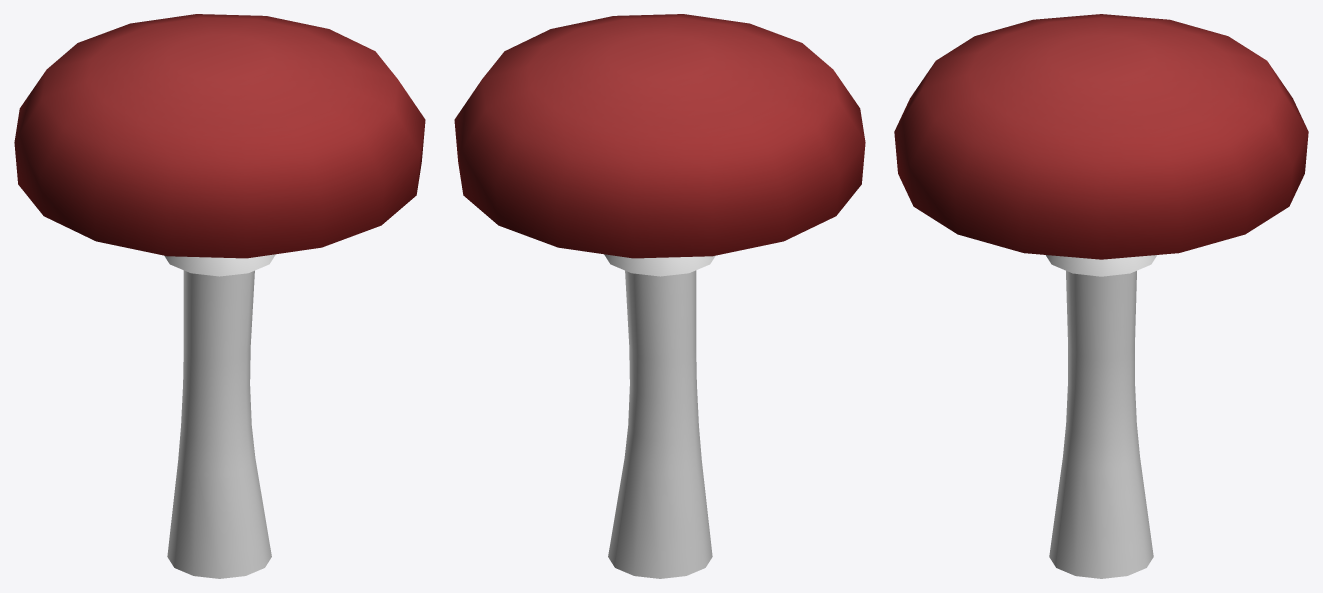
File: Mushroom_02.fbx
3 renders of one model, left to right at view 1: azimuth 30°, elevation 25°; view 2: azimuth 150°, elevation 25°; view 3: azimuth 270°, elevation 25°, orthographic.
Visible parts, largest first — view 1: Mushroom_02_LOD0; view 2: Mushroom_02_LOD0; view 3: Mushroom_02_LOD0.
Part boxes in pixels (bbox=[...]): Mushroom_02_LOD0: bbox=[14, 14, 425, 578]; Mushroom_02_LOD0: bbox=[454, 14, 865, 578]; Mushroom_02_LOD0: bbox=[894, 14, 1308, 578].
Size of what is drawn, in the model's own units: 0.1266 by 0.1683 by 0.1266.
